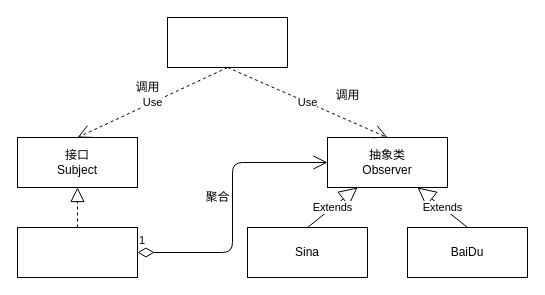
Image size: 545x295. Some labels were removed from this diagram. Here are the shapes that lost their labels. From the top down, the centre of each, then its label:
pixel 227 42: Client
pixel 77 252: WeatherAPI
